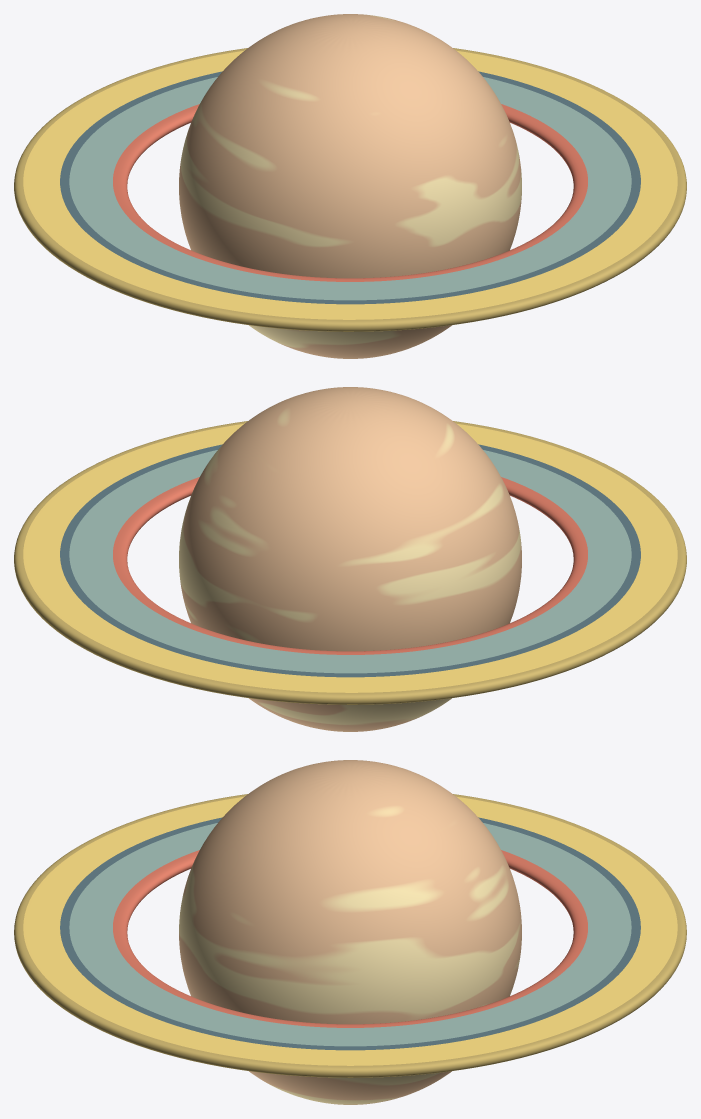
File: Saturn.glb
The picture shows the model from 3 angles, top to bottom: view 1: azimuth 30°, elevation 25°; view 2: azimuth 150°, elevation 25°; view 3: azimuth 270°, elevation 25°; orthographic projection.
Visible parts, largest first — view 1: Sphere, Circle; view 2: Sphere, Circle; view 3: Sphere, Circle.
Part boxes in pixels (x1,y1,x2,y2): Sphere: (179,14,521,358); Circle: (14,48,686,331); Sphere: (179,387,521,731); Circle: (14,421,686,704); Sphere: (179,760,521,1104); Circle: (14,794,686,1077).
Bounding box in the file's own units: 6.2 × 3.19 × 6.2.
Materials: 6 (1 with a texture image).
